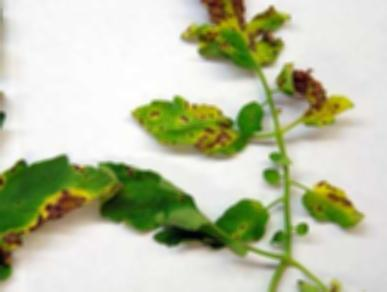Tomato Septoria leaf spot: (0, 140, 119, 272), (126, 87, 247, 156), (174, 0, 289, 63), (301, 178, 372, 244), (207, 193, 267, 258), (300, 88, 359, 131)
